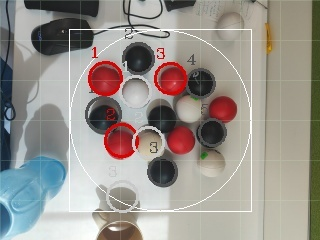Pelota blanca: (105, 179, 141, 210), (95, 219, 144, 240), (135, 125, 165, 159), (121, 77, 151, 108), (121, 0, 165, 21), (197, 147, 226, 178), (173, 93, 202, 123)
Pelota negra: (85, 97, 122, 135), (121, 41, 154, 75), (147, 155, 179, 189), (145, 97, 176, 132), (187, 67, 216, 99), (195, 119, 226, 148), (163, 0, 196, 12)
Pelota roja: (103, 121, 141, 160), (87, 59, 124, 96), (153, 61, 189, 96), (165, 125, 196, 156), (207, 95, 239, 123), (155, 47, 166, 60)
